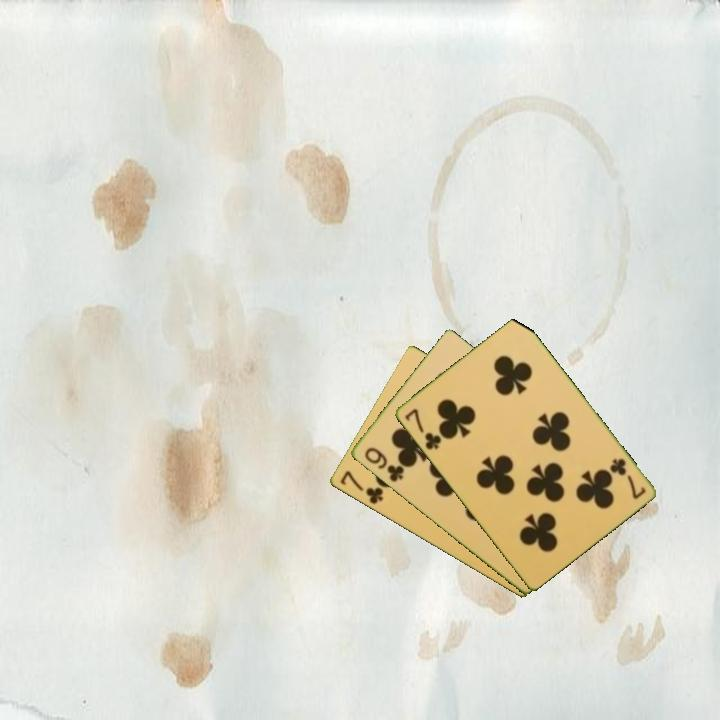7c: (401, 405, 444, 453), (606, 454, 649, 502), (336, 467, 386, 507)
9c: (360, 444, 407, 485)
